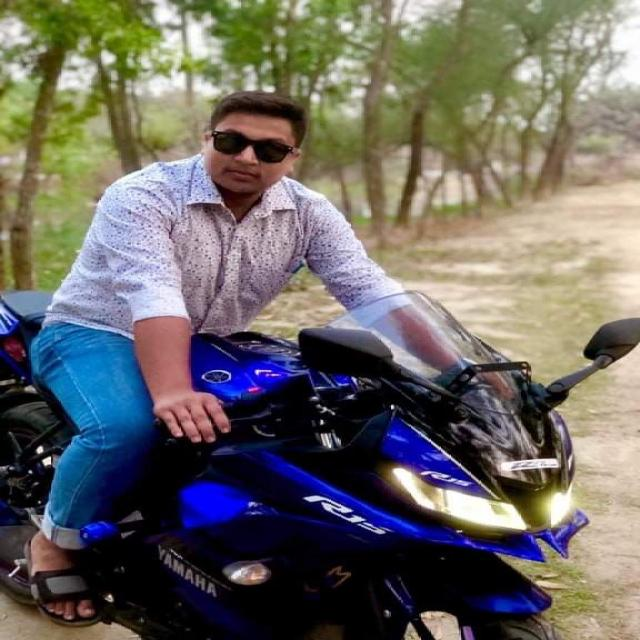Not Wearing Helmet: (213, 95, 384, 208)
